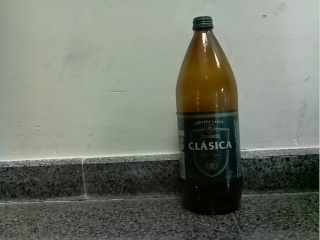pote cristal: (175, 16, 242, 216)
